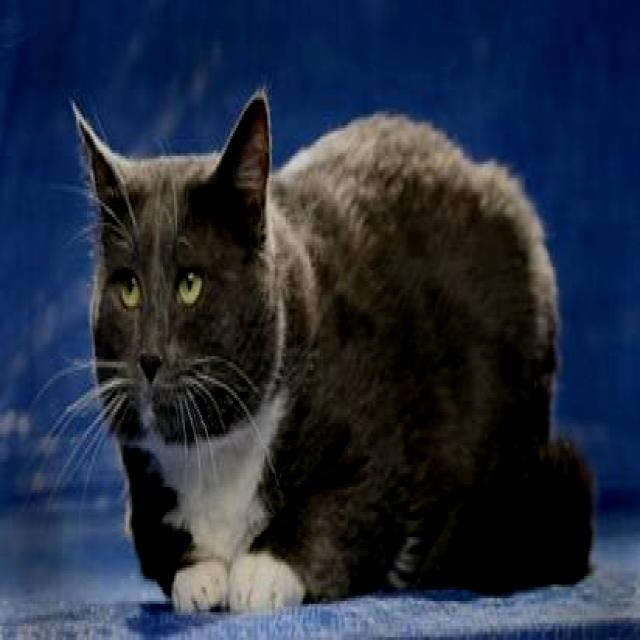Kucing: (24, 46, 626, 637)
